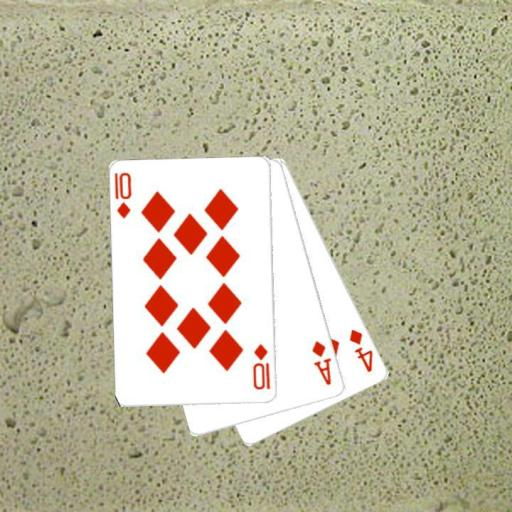10D: (251, 341, 273, 392), (112, 170, 133, 221)
4D: (346, 326, 375, 374)
AD: (310, 338, 334, 387)
